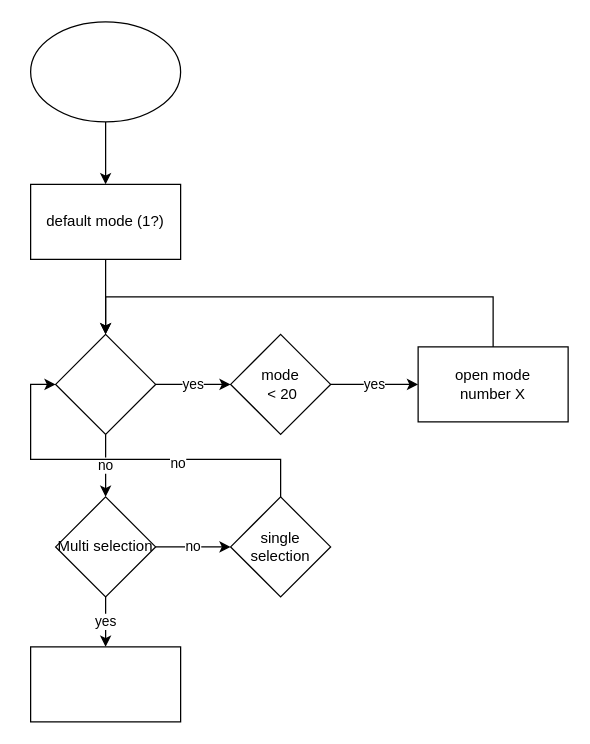
Some shapes in this 590 by 744 pixel diagram are drawn without their labels. The centre of each missing label's shape, as x and y in pixels:
Boot: pixel 105 71
encoder turned?: pixel 105 383
enter multi selection: pixel 105 684
